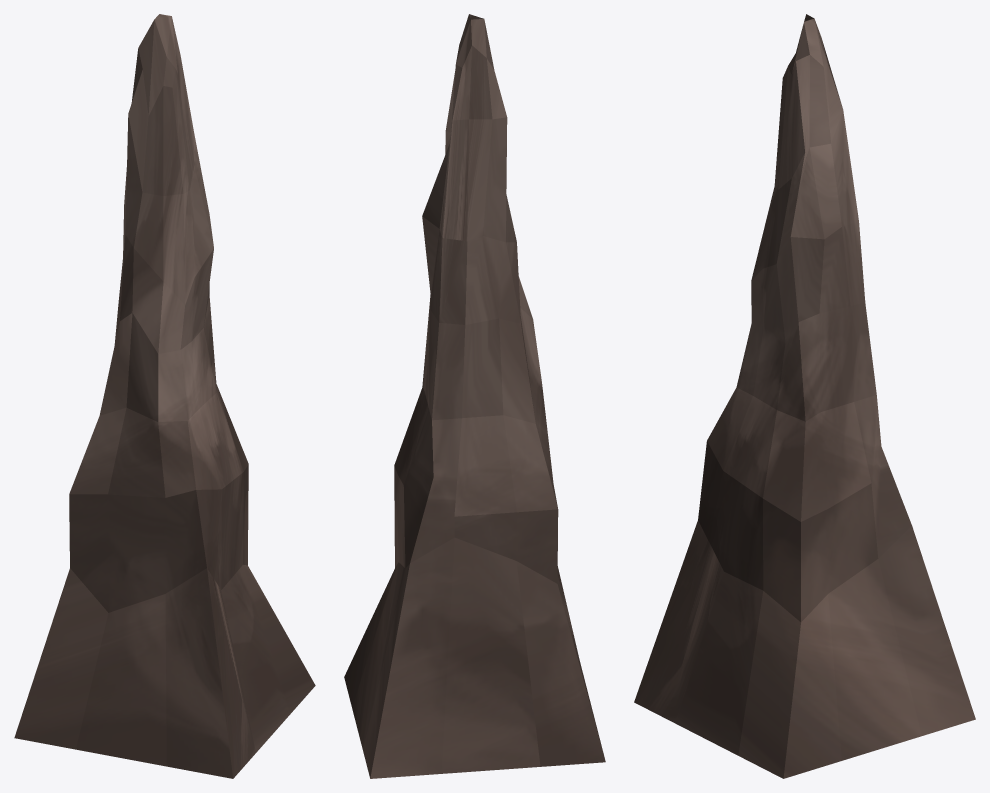
File: stalactite2.fbx
3 views of the same model, side by side, from view 1: azimuth 30°, elevation 25°; view 2: azimuth 150°, elevation 25°; view 3: azimuth 270°, elevation 25° (orthographic).
Visible parts, largest first — view 1: stalactite2; view 2: stalactite2; view 3: stalactite2.
Part boxes in pixels (left/top/right/bottom): stalactite2: left=14, top=14, right=315, bottom=778; stalactite2: left=344, top=14, right=605, bottom=778; stalactite2: left=634, top=14, right=975, bottom=778.
Size of the model in its own units: 315 by 747 by 335.
